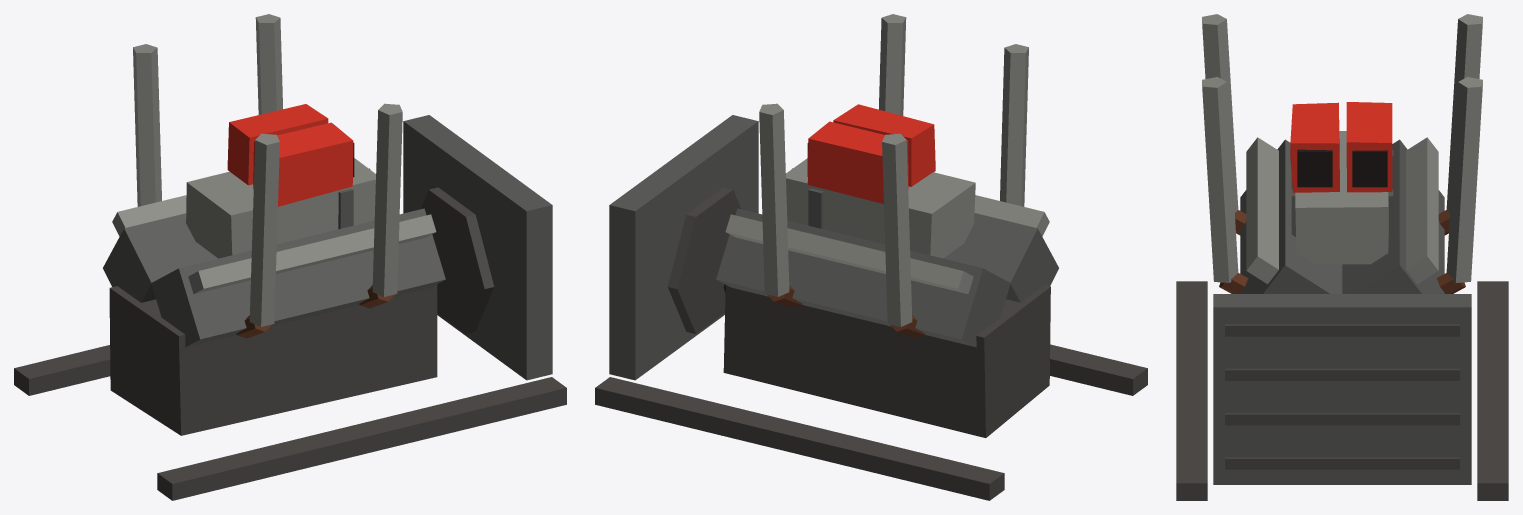
The model's file is eng_tuned_v8.glb.
3 views of the same model, side by side, from view 1: azimuth 30°, elevation 25°; view 2: azimuth 150°, elevation 25°; view 3: azimuth 270°, elevation 25° (orthographic). The views are drawn at different scales.
Visible parts, largest first — view 1: eng_tuned_v8; view 2: eng_tuned_v8; view 3: eng_tuned_v8.
Part boxes in pixels (x1,y1,x2,y2): eng_tuned_v8: [14, 14, 566, 500]; eng_tuned_v8: [595, 14, 1147, 500]; eng_tuned_v8: [1176, 14, 1508, 500].
Bounding box in the file's own units: 1.24 × 0.9519 × 0.848.
